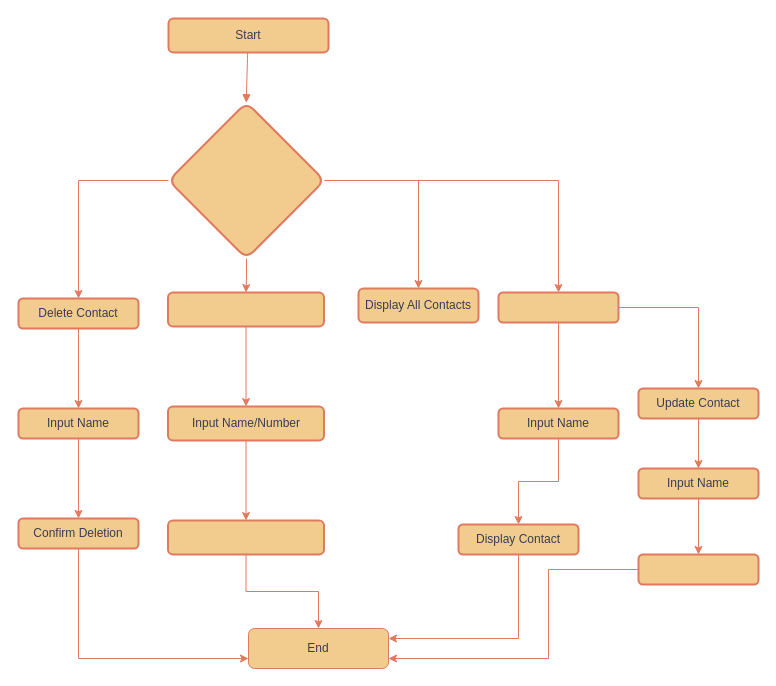
The diagram is 776 pixels wide and 686 high, and some of its shapes have lost their labels. Here are the shapes that lost their labels. From the top down, the box of each, then its label:
(167, 101, 325, 259): Choose Action
(166, 291, 324, 327): Add Contact
(497, 291, 619, 323): Search Contact
(166, 519, 324, 555): Save Contact
(637, 553, 759, 585): Confirm Update
